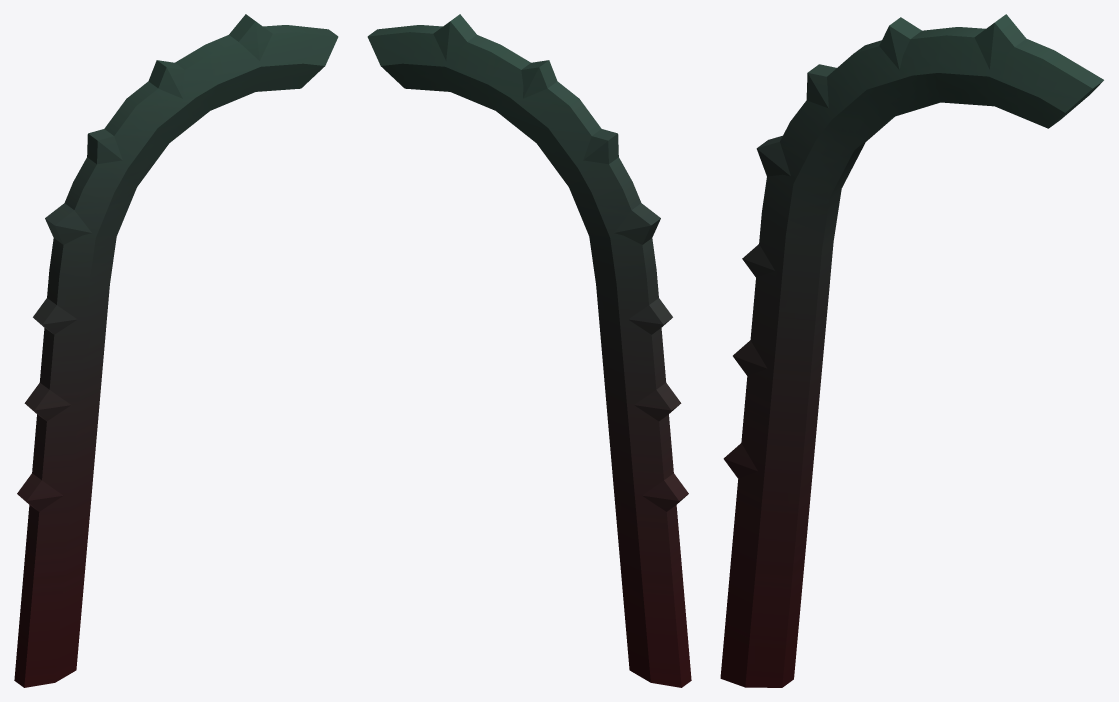
File: SM_Arch_Large_02.fbx
3 views of the same model, side by side, from view 1: azimuth 30°, elevation 25°; view 2: azimuth 150°, elevation 25°; view 3: azimuth 330°, elevation 25° (orthographic). The views are drawn at different scales.
Visible parts, largest first — view 1: SM_Arch_Large_02; view 2: SM_Arch_Large_02; view 3: SM_Arch_Large_02.
Boxes of the visible parts, x1=… form: SM_Arch_Large_02: x1=14, y1=14, x2=338, y2=687; SM_Arch_Large_02: x1=367, y1=14, x2=691, y2=687; SM_Arch_Large_02: x1=720, y1=14, x2=1103, y2=687.
Bounding box in the file's own units: 459 × 851 × 50.
1 material, 1 textured.
